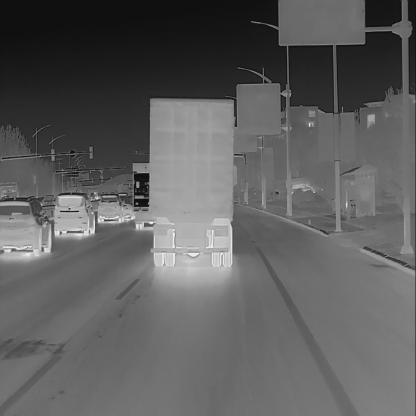car: (0, 197, 54, 256), (54, 191, 97, 237), (95, 194, 125, 224), (121, 196, 134, 218), (41, 193, 56, 208)
truck: (146, 98, 237, 267), (130, 160, 157, 230), (0, 180, 20, 202)
